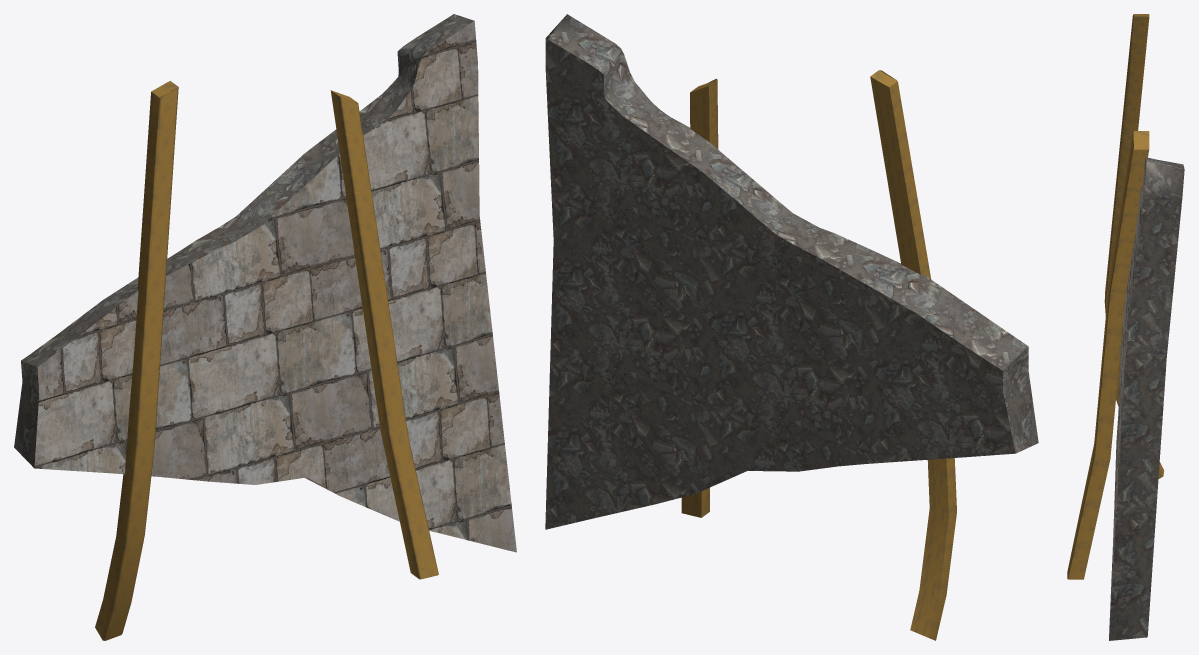
The picture shows the model from 3 angles, left to right: view 1: azimuth 30°, elevation 25°; view 2: azimuth 150°, elevation 25°; view 3: azimuth 270°, elevation 25°; orthographic projection. The views are drawn at different scales.
Visible parts, largest first — view 1: SM_KuldrasTower_DMG_02_LOD0; view 2: SM_KuldrasTower_DMG_02_LOD0; view 3: SM_KuldrasTower_DMG_02_LOD0.
Boxes of the visible parts, x1,y1,x2,y2 form: SM_KuldrasTower_DMG_02_LOD0: [14, 14, 516, 640]; SM_KuldrasTower_DMG_02_LOD0: [545, 14, 1038, 640]; SM_KuldrasTower_DMG_02_LOD0: [1067, 14, 1184, 640].
Bounding box in the file's own units: 33.05 × 36.16 × 7.83.
Materials: 3 (3 with a texture image).
